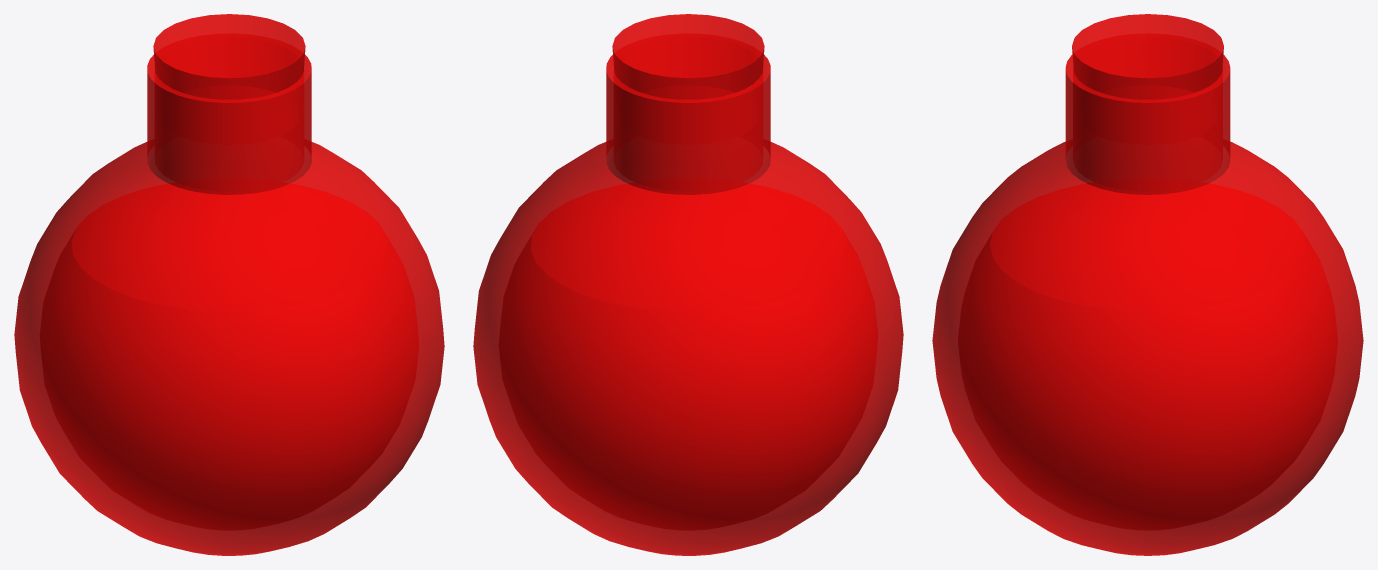
The model's file is Potion002.FBX.
The picture shows the model from 3 angles, left to right: view 1: azimuth 30°, elevation 25°; view 2: azimuth 150°, elevation 25°; view 3: azimuth 270°, elevation 25°; orthographic projection.
Visible parts, largest first — view 1: RedPotion; view 2: RedPotion; view 3: RedPotion.
Part boxes in pixels (box(x1,y1,x2,y2)): RedPotion: box(14, 14, 444, 555); RedPotion: box(473, 14, 903, 555); RedPotion: box(932, 14, 1363, 555).
Bounding box in the file's own units: 1.7 × 2.07 × 1.7.
